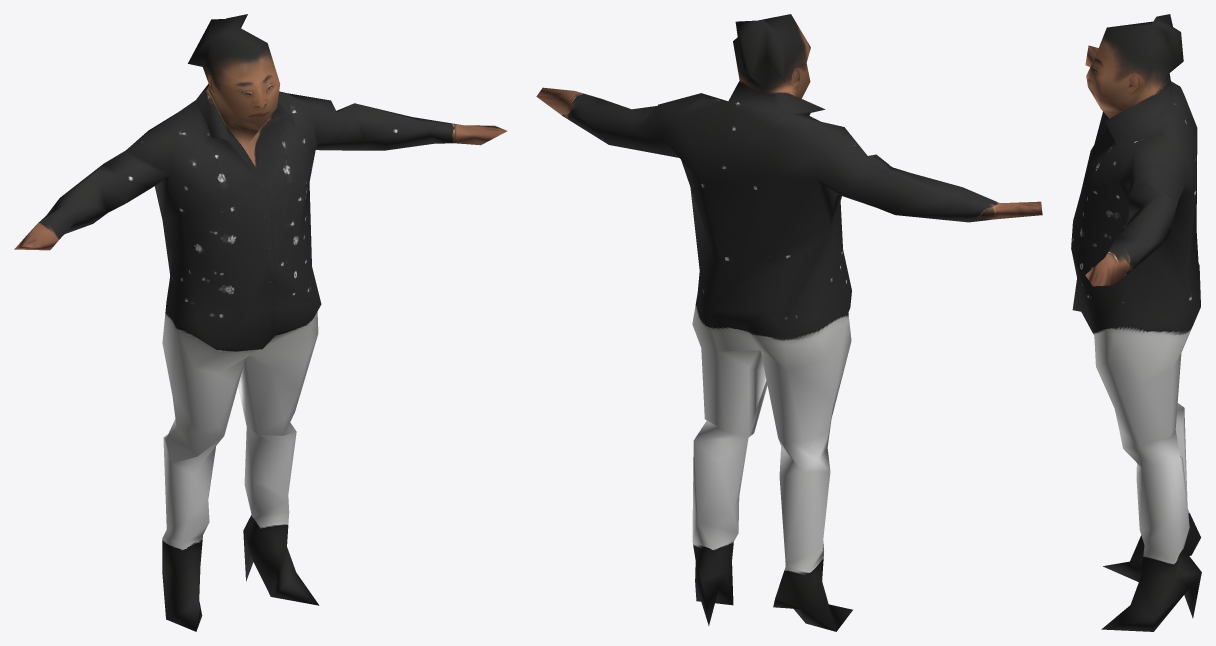
Rendered from npc.glb.
The picture shows the model from 3 angles, left to right: view 1: azimuth 30°, elevation 25°; view 2: azimuth 150°, elevation 25°; view 3: azimuth 270°, elevation 25°; orthographic projection. The views are drawn at different scales.
Visible parts, largest first — view 1: tripo_node_b8b14c5e-49e0-4069-87d5-4915b37f028b; view 2: tripo_node_b8b14c5e-49e0-4069-87d5-4915b37f028b; view 3: tripo_node_b8b14c5e-49e0-4069-87d5-4915b37f028b.
Boxes of the visible parts, x1,y1,x2,y2 form: tripo_node_b8b14c5e-49e0-4069-87d5-4915b37f028b: [14, 14, 507, 631]; tripo_node_b8b14c5e-49e0-4069-87d5-4915b37f028b: [536, 14, 1042, 631]; tripo_node_b8b14c5e-49e0-4069-87d5-4915b37f028b: [1071, 14, 1201, 631].
Bounding box in the file's own units: 0.8547 × 0.975 × 0.1975.
Materials: 1 (1 with a texture image).
